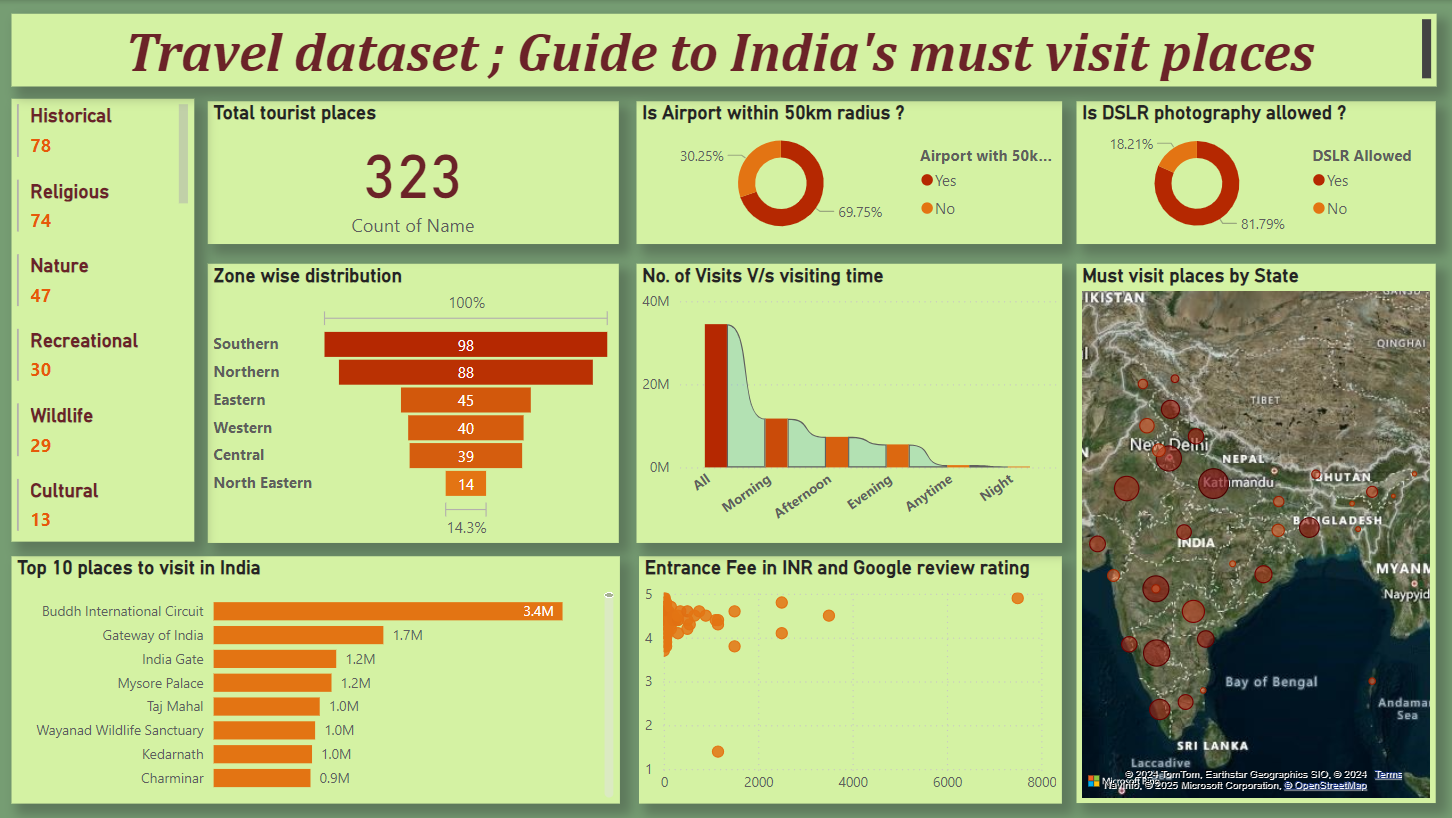

The page's visual inventory and layout, read from the dashboard file:
{"tool":"powerbi","page":{"name":"Page 1","canvas":[1280,720],"ordinal":0},"visuals":[{"type":"funnel","title":"Zone wise distribution","fields":{"Category":["Top Indian Places to Visit.Zone"],"Y":["CountNonNull(Top Indian Places to Visit.Zone)"]},"box":[183.7,232.6,361.6,245.3],"z":0},{"type":"card","title":"Total tourist places ","fields":{"Values":["Count(Top Indian Places to Visit.Name)"]},"box":[183.7,89.5,361.6,125.6],"z":1000},{"type":"clusteredBarChart","title":"Top 10 places to visit in India","fields":{"Category":["Top Indian Places to Visit.Name"],"Y":["Sum(Top Indian Places to Visit.Total score)"]},"box":[10.5,489.5,534.9,217.4],"z":2000},{"type":"donutChart","title":"Is Airport within 50km radius ?","fields":{"Y":["CountNonNull(Top Indian Places to Visit.Airport with 50km Radius)"],"Category":["Top Indian Places to Visit.Airport with 50km Radius"]},"box":[560.5,89.5,374.4,125.6],"z":3000},{"type":"multiRowCard","fields":{"Values":["Top Indian Places to Visit.Significance","CountNonNull(Top Indian Places to Visit.Significance)"]},"box":[10.5,87.2,160.5,389.5],"z":4000},{"type":"donutChart","title":"Is DSLR photography allowed ?","fields":{"Y":["CountNonNull(Top Indian Places to Visit.DSLR Allowed)"],"Category":["Top Indian Places to Visit.DSLR Allowed"]},"box":[947.7,89.5,316.3,125.6],"z":5000},{"type":"scatterChart","fields":{"X":["Top Indian Places to Visit.Entrance Fee in INR"],"Y":["Top Indian Places to Visit.Google review rating"]},"box":[562.8,489.5,372.1,217.4],"z":6000},{"type":"ribbonChart","title":"No. of Visits V/s visiting time","fields":{"Category":["Top Indian Places to Visit.Best Time to visit"],"Y":["Sum(Top Indian Places to Visit.Total score)"]},"box":[560.5,232.6,374.4,245.3],"z":7000},{"type":"textbox","box":[10.5,11.6,1253.5,64],"z":8000},{"type":"map","title":"Must visit places by State","fields":{"Category":["Top Indian Places to Visit.State"],"Size":["Sum(Top Indian Places to Visit.Total score)"]},"box":[947.7,232.6,316.3,474.4],"z":9000}]}

Visuals, with their boxes in screenshot pixels (x1, y1, x2, y2), scaled from the page's 1280x720 canvas onto the 1452x818 screenshot:
"Zone wise distribution" funnel: [208,264,619,543]
"Total tourist places " card: [208,102,619,244]
"Top 10 places to visit in India" clusteredBarChart: [12,556,619,803]
"Is Airport within 50km radius ?" donutChart: [636,102,1061,244]
multiRowCard - Top Indian Places to Visit.Significance x CountNonNull(Top Indian Places to Visit.Significance): [12,99,194,542]
"Is DSLR photography allowed ?" donutChart: [1075,102,1434,244]
scatterChart - Top Indian Places to Visit.Entrance Fee in INR x Top Indian Places to Visit.Google review rating: [638,556,1061,803]
"No. of Visits V/s visiting time" ribbonChart: [636,264,1061,543]
textbox: [12,13,1434,86]
"Must visit places by State" map: [1075,264,1434,803]
